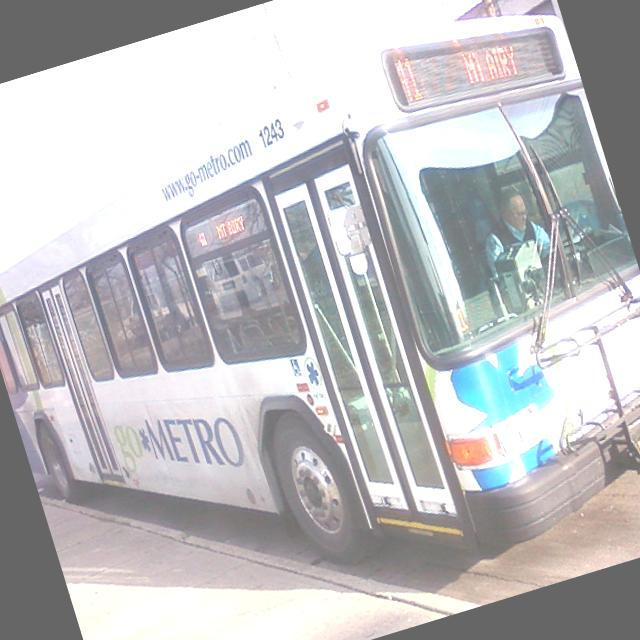Vehicle: (0, 0, 640, 640), (534, 186, 634, 278)
